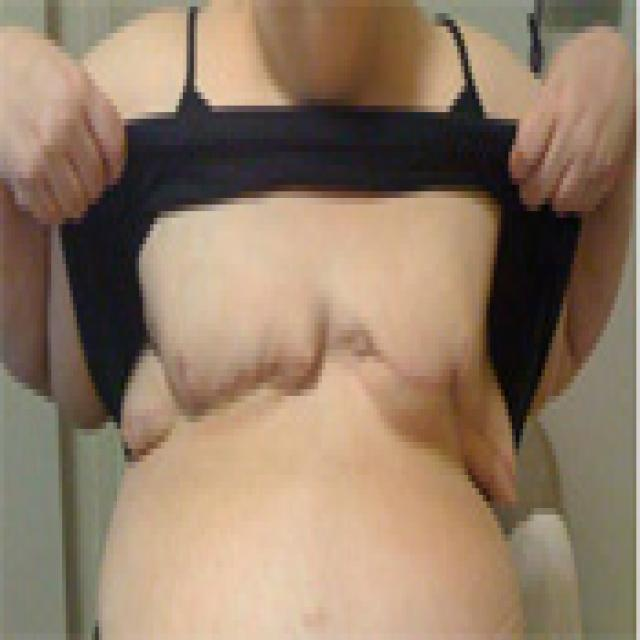Seno herido: (325, 199, 525, 541), (115, 199, 323, 497)
